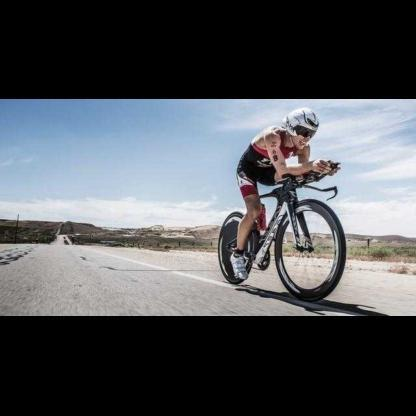Bicycle: (199, 164, 360, 307)
